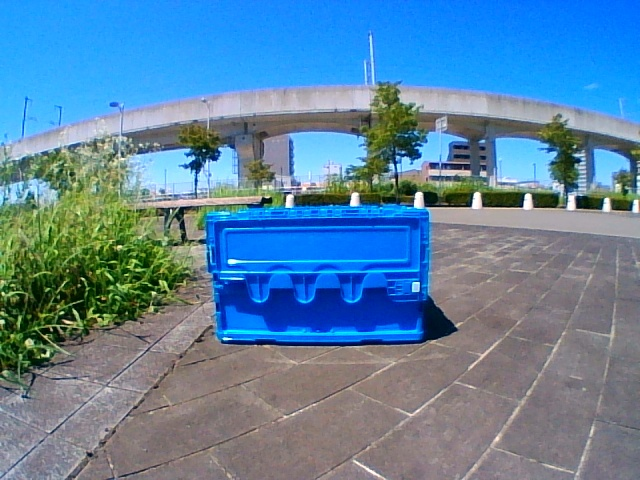blue_box: (216, 213, 423, 338)
